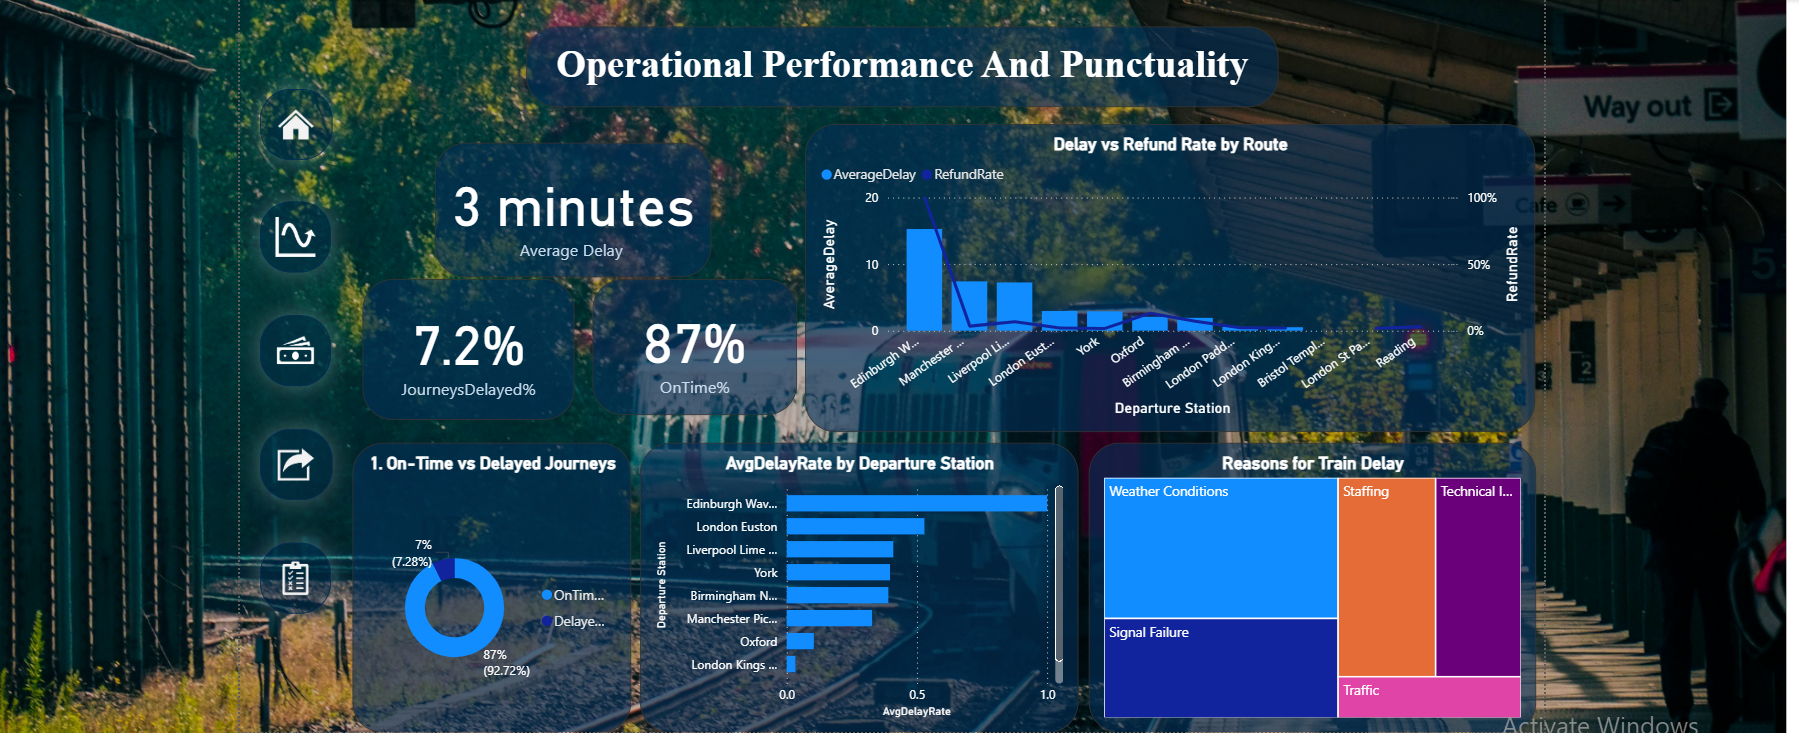

The page's visual inventory and layout, read from the dashboard file:
{"tool":"powerbi","page":{"name":"Operational Performance & Punctuality","canvas":[1280,720],"ordinal":4},"visuals":[{"type":"card","fields":{"Values":["_measure.AverageDelayMinutes"]},"box":[192,140.6,271.5,132.1],"z":0},{"type":"donutChart","title":"1.\tOn-Time vs Delayed Journeys ","fields":{"Y":["_measure.OnTime%","_measure.DelayedJourneys%"]},"box":[110.1,435.3,273.9,284.9],"z":1000},{"type":"barChart","fields":{"Category":["Journey Table.Departure Station"],"Y":["_measure.AvgDelayRate"]},"box":[393.1,435.3,430.4,284.9],"z":2000},{"type":"treemap","title":"Reasons for  Train Delay","fields":{"Group":["Journey Table.Reason for Delay"],"Values":["CountNonNull(Journey Table.Reason for Delay)"]},"box":[832.7,435.3,439,284.9],"z":3000},{"type":"lineClusteredColumnComboChart","title":"Delay vs Refund Rate by Route","fields":{"Category":["Journey Table.Departure Station"],"Y":["_measure.AverageDelay"],"Y2":["_measure.RefundRate"]},"box":[554.7,123.2,716.6,302],"z":4000},{"type":"card","fields":{"Values":["_measure.JourneysDelayed%"]},"box":[119.8,275.1,207.9,138.2],"z":5000},{"type":"card","fields":{"Values":["_measure.OnTime%"]},"box":[346.1,275.1,200.5,133.3],"z":6000},{"type":"textbox","title":" Customer Impact on delay and refund","box":[281.3,26.9,738.6,79.5],"z":7000},{"type":"image","box":[19.8,199.3,69.7,69.7],"z":8000},{"type":"image","box":[19.8,310.6,69.7,69.7],"z":9000},{"type":"image","box":[19.2,421.9,70.9,69.7],"z":10000},{"type":"image","box":[19.8,533.2,69.7,69.7],"z":11000},{"type":"image","box":[19.2,88,70.9,69.7],"z":12000}]}

Visuals, with their boxes on the page's 1280x720 design canvas (x1, y1, x2, y2). These are canvas units, not pixel positions in the 1799x733 screenshot, which may show the page scaled, cropped or inside an application window:
card - _measure.AverageDelayMinutes: {"left": 192, "top": 141, "right": 464, "bottom": 273}
"1.	On-Time vs Delayed Journeys " donutChart: {"left": 110, "top": 435, "right": 384, "bottom": 720}
barChart - Journey Table.Departure Station x _measure.AvgDelayRate: {"left": 393, "top": 435, "right": 824, "bottom": 720}
"Reasons for  Train Delay" treemap: {"left": 833, "top": 435, "right": 1272, "bottom": 720}
"Delay vs Refund Rate by Route" lineClusteredColumnComboChart: {"left": 555, "top": 123, "right": 1271, "bottom": 425}
card - _measure.JourneysDelayed%: {"left": 120, "top": 275, "right": 328, "bottom": 413}
card - _measure.OnTime%: {"left": 346, "top": 275, "right": 547, "bottom": 408}
" Customer Impact on delay and refund" textbox: {"left": 281, "top": 27, "right": 1020, "bottom": 106}
image: {"left": 20, "top": 199, "right": 90, "bottom": 269}
image: {"left": 20, "top": 311, "right": 90, "bottom": 380}
image: {"left": 19, "top": 422, "right": 90, "bottom": 492}
image: {"left": 20, "top": 533, "right": 90, "bottom": 603}
image: {"left": 19, "top": 88, "right": 90, "bottom": 158}
